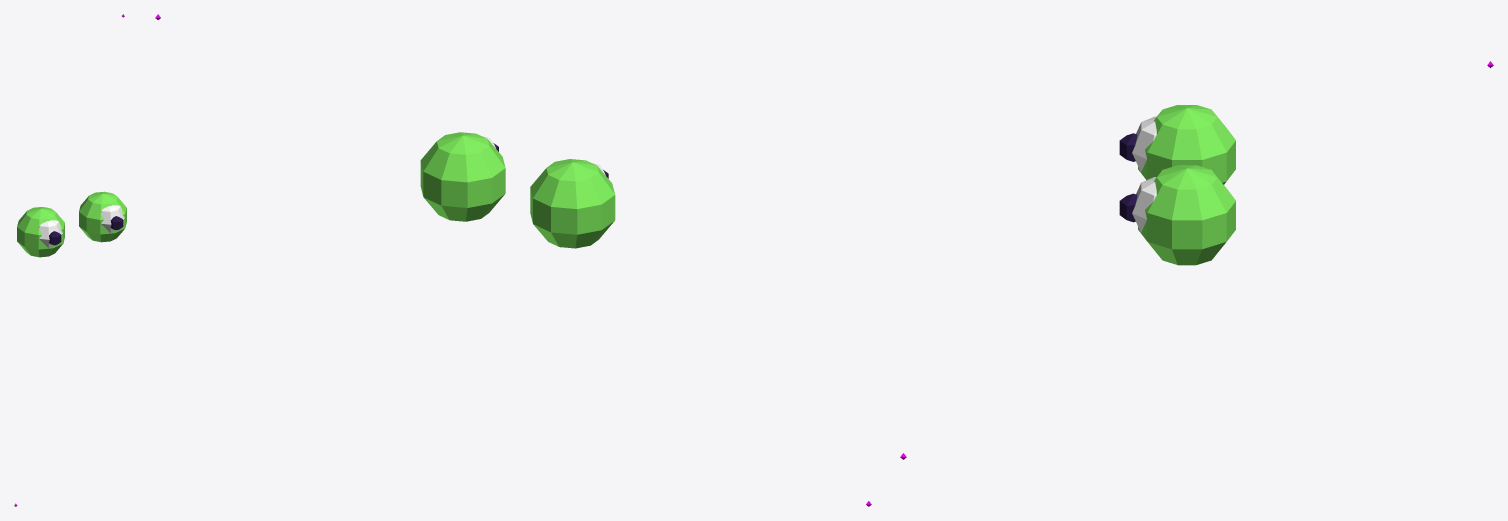
Rendered from acc_frog_eyes.fbx.
The picture shows the model from 3 angles, left to right: view 1: azimuth 30°, elevation 25°; view 2: azimuth 150°, elevation 25°; view 3: azimuth 270°, elevation 25°; orthographic projection. The views are drawn at different scales.
Parts seen in each view (by area): view 1: Bumps, EyeWhite, Pupil; view 2: Bumps; view 3: Bumps, EyeWhite, Pupil.
Part boxes in pixels (x1=…): Bumps: x1=17, y1=191, x2=126, y2=257; EyeWhite: x1=39, y1=205, x2=124, y2=248; Pupil: x1=49, y1=216, x2=123, y2=245; Bumps: x1=420, y1=132, x2=615, y2=248; Bumps: x1=1138, y1=105, x2=1235, y2=265; EyeWhite: x1=1132, y1=116, x2=1156, y2=232; Pupil: x1=1119, y1=133, x2=1137, y2=222.
Size of the model in its own units: 2.99 by 3.6 by 2.99.
